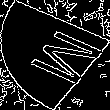M_SE: (9, 22, 101, 88)
